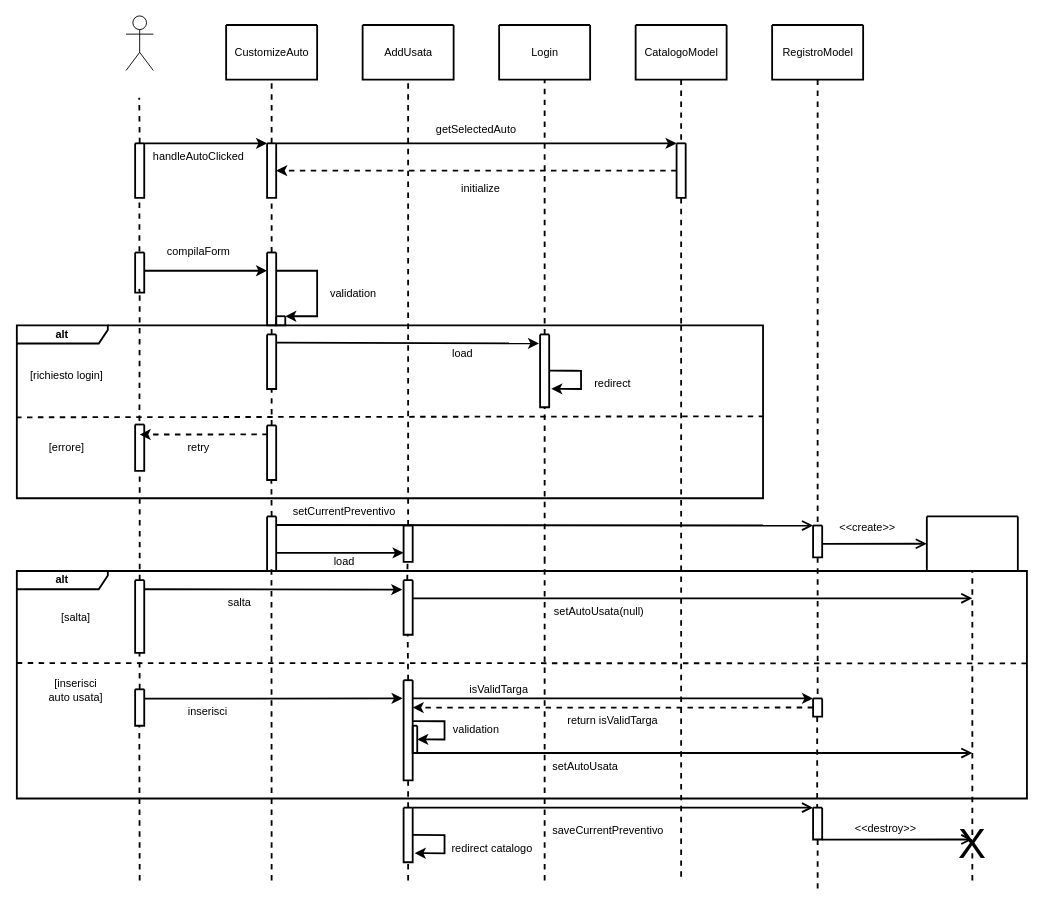
Image size: 1050x907. Some labels were removed from this diagram. The centre of each missing label's shape, as x and y in pixels:
"Cliente" goes at point 139,43.
"Preventivo" goes at point 971,543.
